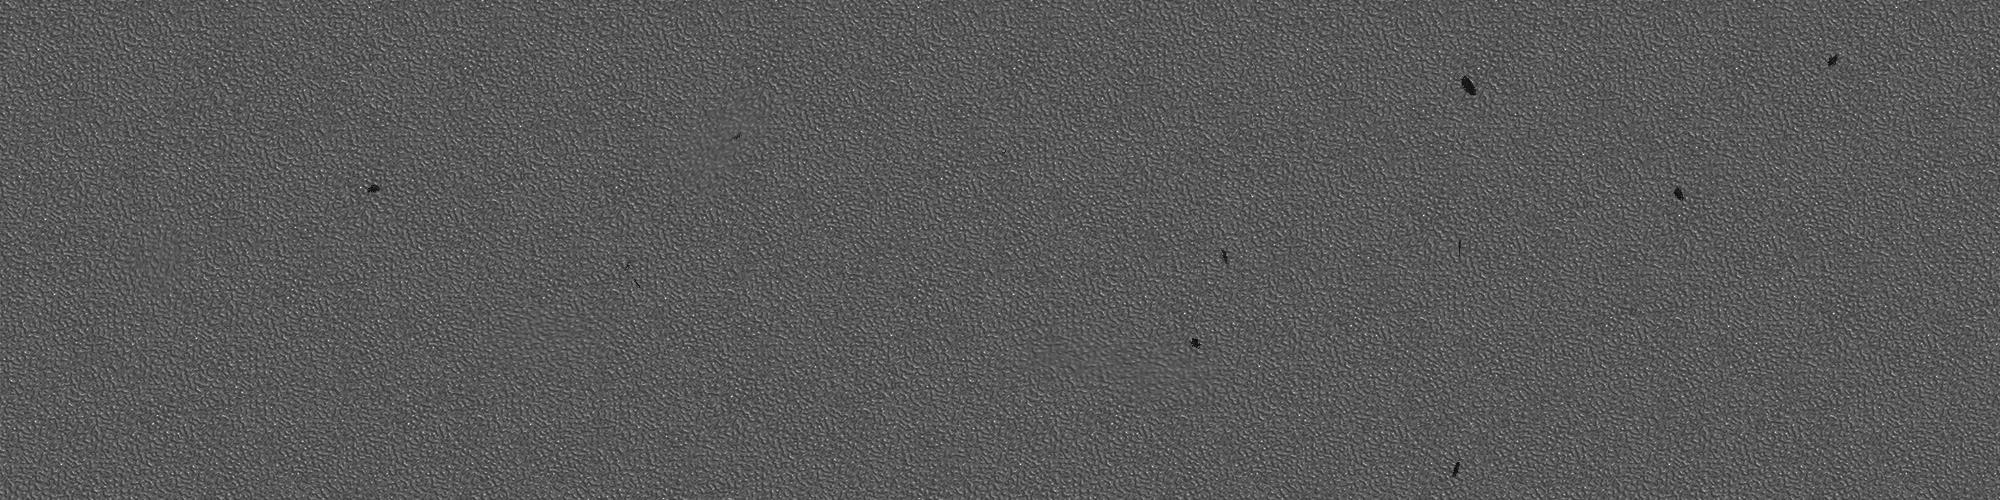Decomposed: (1214, 242, 1241, 268), (1446, 457, 1466, 483), (1180, 335, 1205, 355), (1459, 75, 1480, 98), (364, 179, 392, 193), (724, 126, 750, 140)
